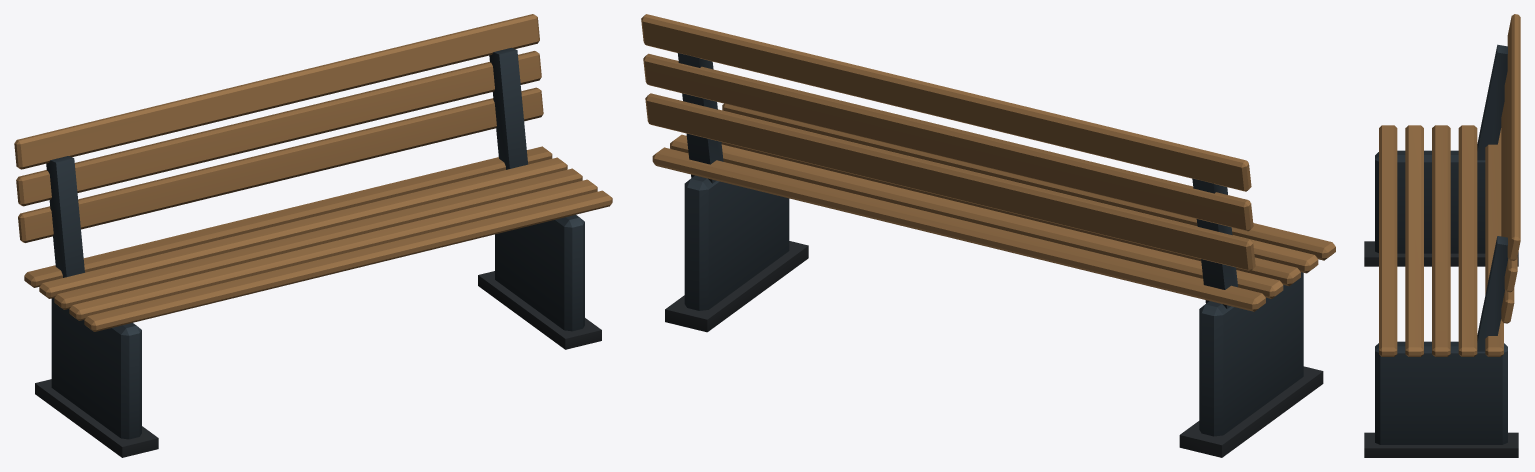
Rendered from street-bench.lod0.glb.
3 renders of one model, left to right at view 1: azimuth 30°, elevation 25°; view 2: azimuth 150°, elevation 25°; view 3: azimuth 270°, elevation 25°, orthographic. The views are drawn at different scales.
Visible parts, largest first — view 1: structure; view 2: structure; view 3: structure.
Part boxes in pixels (x1=…): structure: x1=14, y1=14, x2=612, y2=457; structure: x1=641, y1=14, x2=1335, y2=457; structure: x1=1364, y1=14, x2=1520, y2=457.
Bounding box in the file's own units: 2 × 0.9505 × 0.5884.
